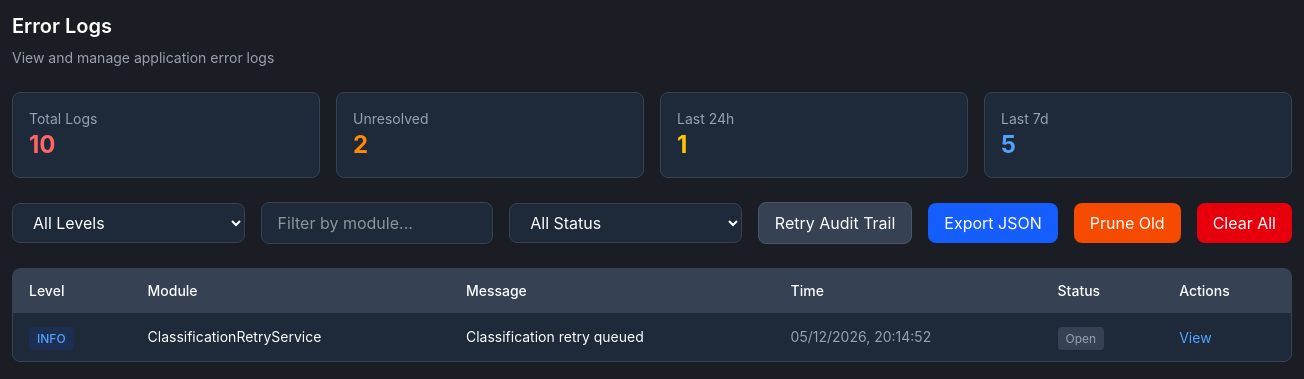
Settings Logs - retry audit trail filter › adds audit query and retry module default when Retry Audit Trail is enabled
Click the button "Retry Audit Trail".
click(835, 223)  # box [758, 202, 912, 244]
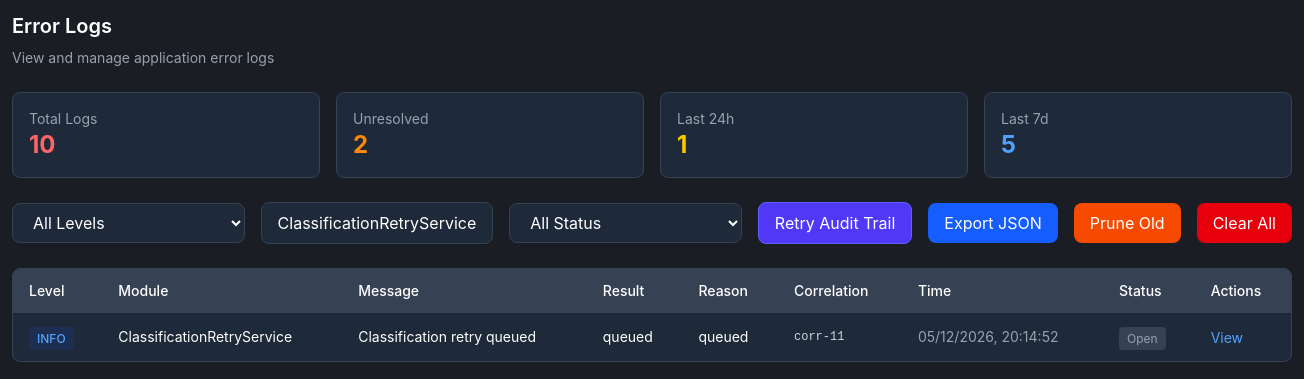
Result: the field with placeholder "Filter by module..." holds "ClassificationRetryService" at [261, 202, 493, 244]
